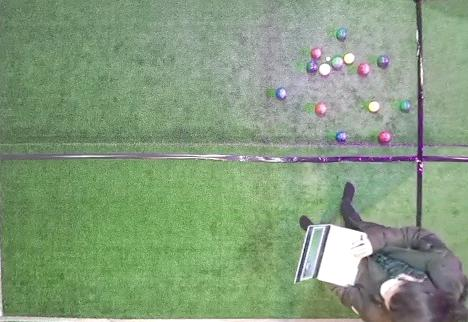blue: (335, 131, 348, 142), (276, 88, 287, 100)
green: (377, 55, 390, 68), (331, 56, 343, 68), (306, 61, 318, 73), (399, 101, 412, 112), (336, 29, 347, 40)
red: (378, 131, 392, 143), (319, 63, 331, 76), (358, 63, 370, 75), (315, 103, 327, 115), (311, 48, 322, 59)
vline: (415, 1, 467, 226), (0, 1, 7, 321)
white: (326, 57, 330, 61)
yellow: (368, 101, 380, 112), (344, 53, 355, 64)
